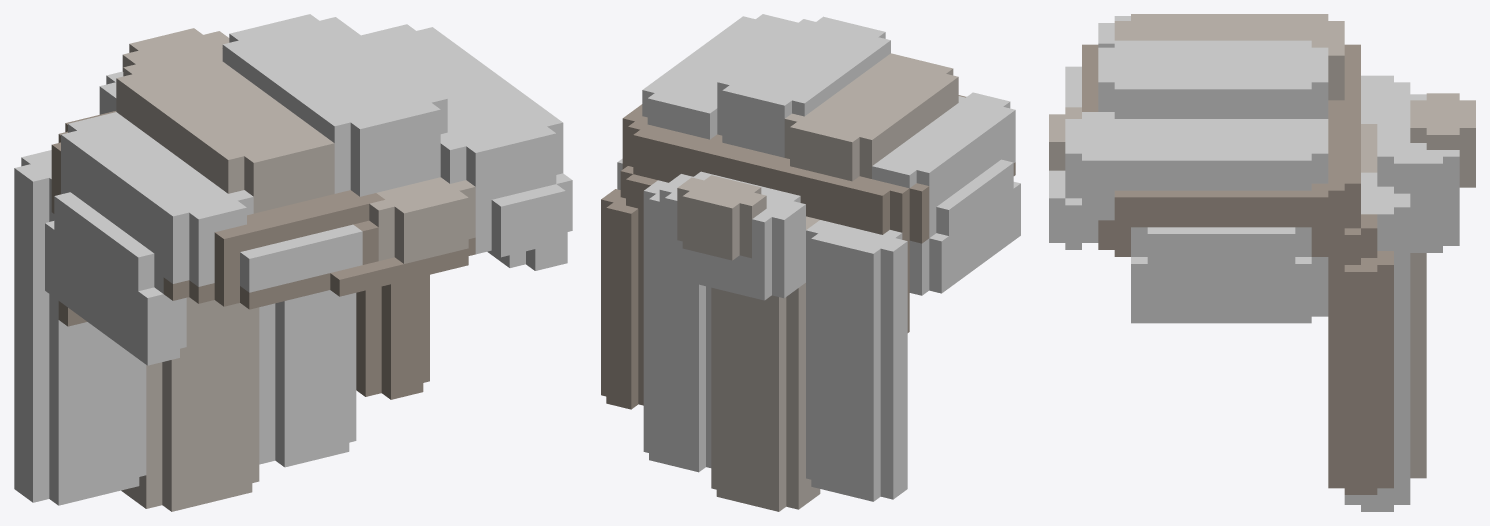
File: hair_f_half_up.glb
3 renders of one model, left to right at view 1: azimuth 30°, elevation 25°; view 2: azimuth 150°, elevation 25°; view 3: azimuth 270°, elevation 25°, orthographic. The views are drawn at different scales.
Visible parts, largest first — view 1: VoxelVisual; view 2: VoxelVisual; view 3: VoxelVisual.
Part boxes in pixels (<box>): VoxelVisual: <box>14,14,572,511</box>; VoxelVisual: <box>601,14,1020,511</box>; VoxelVisual: <box>1049,14,1475,511</box>.
Size of what is drawn, in the model's own units: 1.62 by 1.75 by 1.62.
